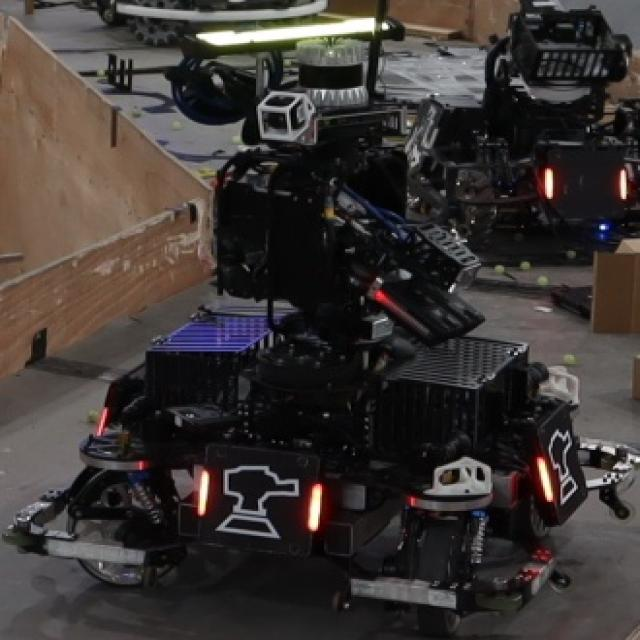Rs: (198, 454, 322, 552), (531, 419, 586, 511)
